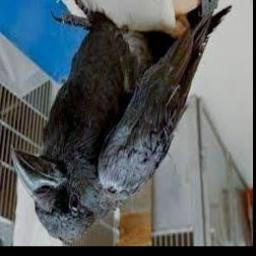Crow: (11, 0, 232, 242)
